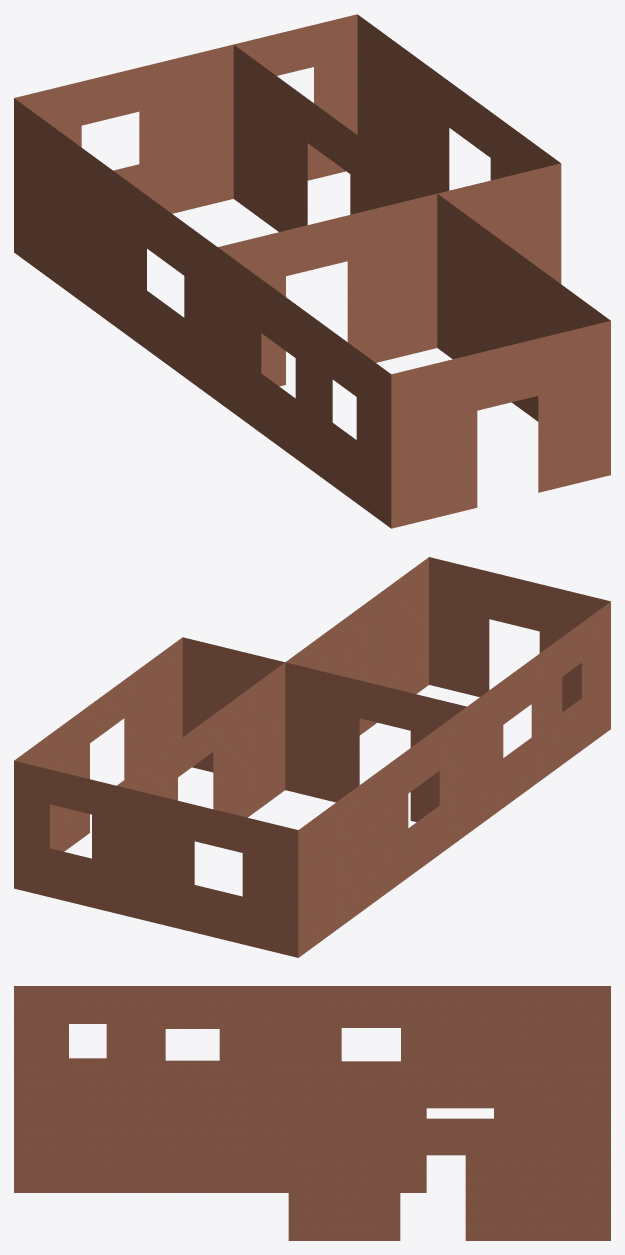
File: walls.obj
3 views of the same model, one above another, from view 1: azimuth 30°, elevation 25°; view 2: azimuth 150°, elevation 25°; view 3: azimuth 270°, elevation 25° (orthographic). The views are drawn at different scales.
Parts seen in each view (by area): view 1: Mesh1 Model; view 2: Mesh1 Model; view 3: Mesh1 Model.
Boxes of the visible parts, x1,y1,x2,y2 form: Mesh1 Model: (14, 14, 610, 528); Mesh1 Model: (14, 557, 610, 957); Mesh1 Model: (14, 986, 610, 1240).
Bounding box in the file's own units: 105 × 45.22 × 200.
1 material, 1 textured.
